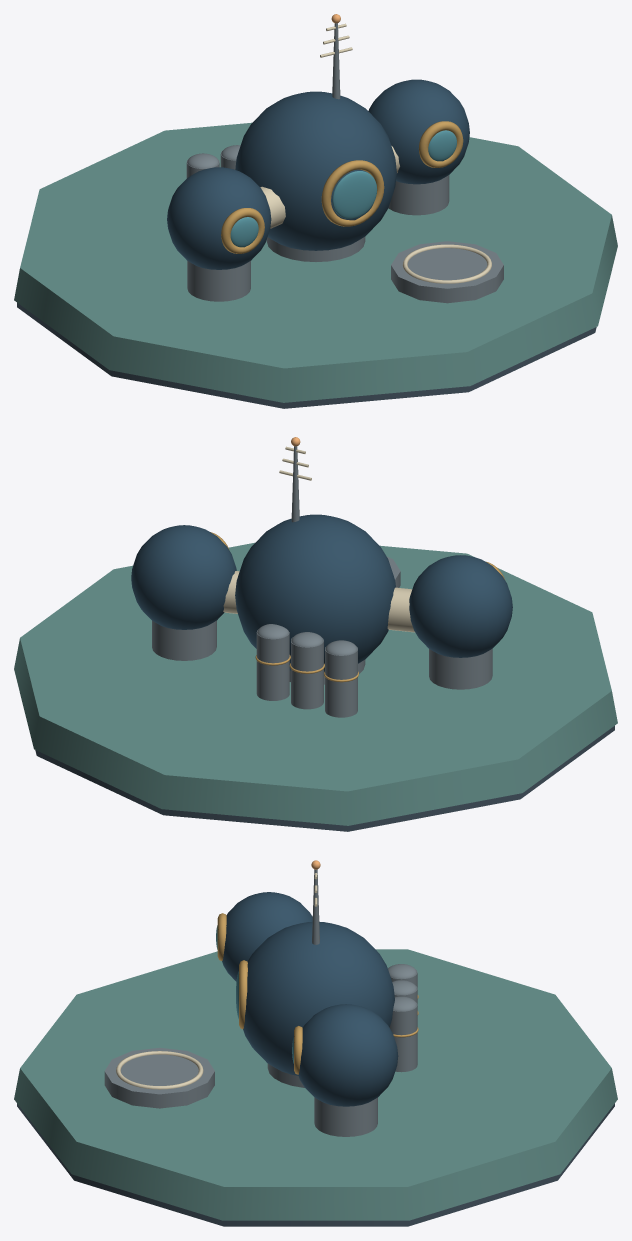
Rendered from brineglass.glb.
The picture shows the model from 3 angles, top to bottom: view 1: azimuth 30°, elevation 25°; view 2: azimuth 150°, elevation 25°; view 3: azimuth 270°, elevation 25°; orthographic projection. The views are drawn at different scales.
Parts seen in each view (by area): view 1: Terrain cutaway, Pressure sphere (×3), Landing apron, Pressure foot (×3), Substrate, Forward porthole (×3), Porthole glass (×3), Pad marking, Transfer lock; view 2: Terrain cutaway, Pressure sphere (×3), Storage vessel (×3), Pressure foot (×2), Substrate, Transfer lock; view 3: Terrain cutaway, Pressure sphere (×3), Landing apron, Substrate, Pressure foot, Storage vessel, Pad marking, Forward porthole.
Part boxes in pixels (<box>): Terrain cutaway: <box>14,122,617,402</box>; Pressure sphere (×3): <box>167,79,469,269</box>; Landing apron: <box>391,241,503,303</box>; Pressure foot (×3): <box>187,175,449,301</box>; Substrate: <box>17,303,596,408</box>; Forward porthole (×3): <box>221,121,463,253</box>; Porthole glass (×3): <box>230,130,456,247</box>; Pad marking: <box>402,244,491,283</box>; Transfer lock: <box>260,146,399,228</box>; Terrain cutaway: <box>14,542,617,825</box>; Pressure sphere (×3): <box>131,514,512,672</box>; Storage vessel (×3): <box>256,629,357,717</box>; Pressure foot (×2): <box>152,620,492,689</box>; Substrate: <box>35,726,614,831</box>; Transfer lock: <box>223,571,414,632</box>; Terrain cutaway: <box>14,949,617,1220</box>; Pressure sphere (×3): <box>222,892,398,1106</box>; Landing apron: <box>104,1047,214,1108</box>; Substrate: <box>17,1103,614,1226</box>; Pressure foot: <box>314,1097,377,1136</box>; Storage vessel: <box>389,1002,417,1072</box>; Pad marking: <box>116,1051,203,1089</box>; Forward porthole: <box>239,960,247,1029</box>.
Size of the model in its own units: 5.52 by 2.7 by 5.8.
